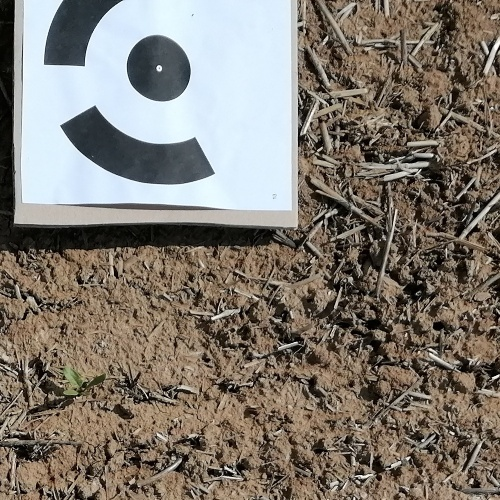beet: (60, 364, 105, 398)
